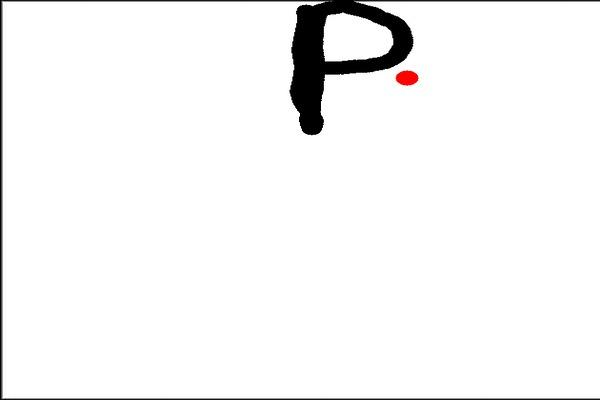P: (282, 0, 412, 147)
